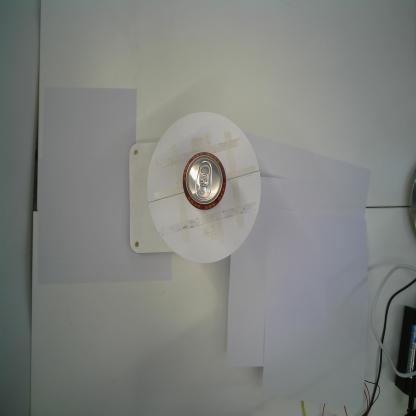Drink: (182, 151, 227, 211)
